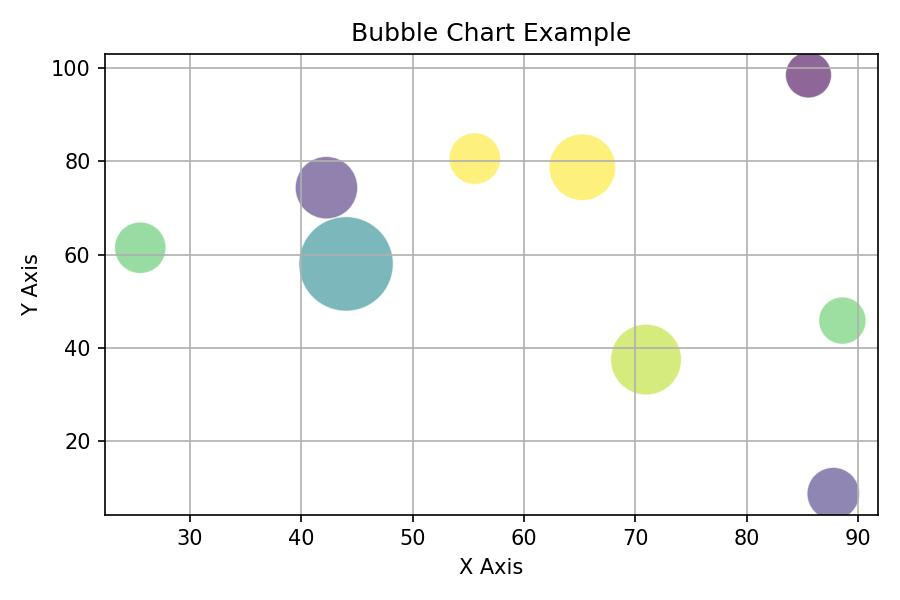axis: (99, 503, 896, 528), (85, 39, 116, 532)
circle: (297, 215, 395, 311), (610, 322, 684, 397), (544, 134, 617, 201), (294, 154, 363, 217), (446, 128, 503, 187), (804, 467, 862, 515), (816, 294, 868, 346), (114, 222, 169, 271), (781, 53, 834, 98)
